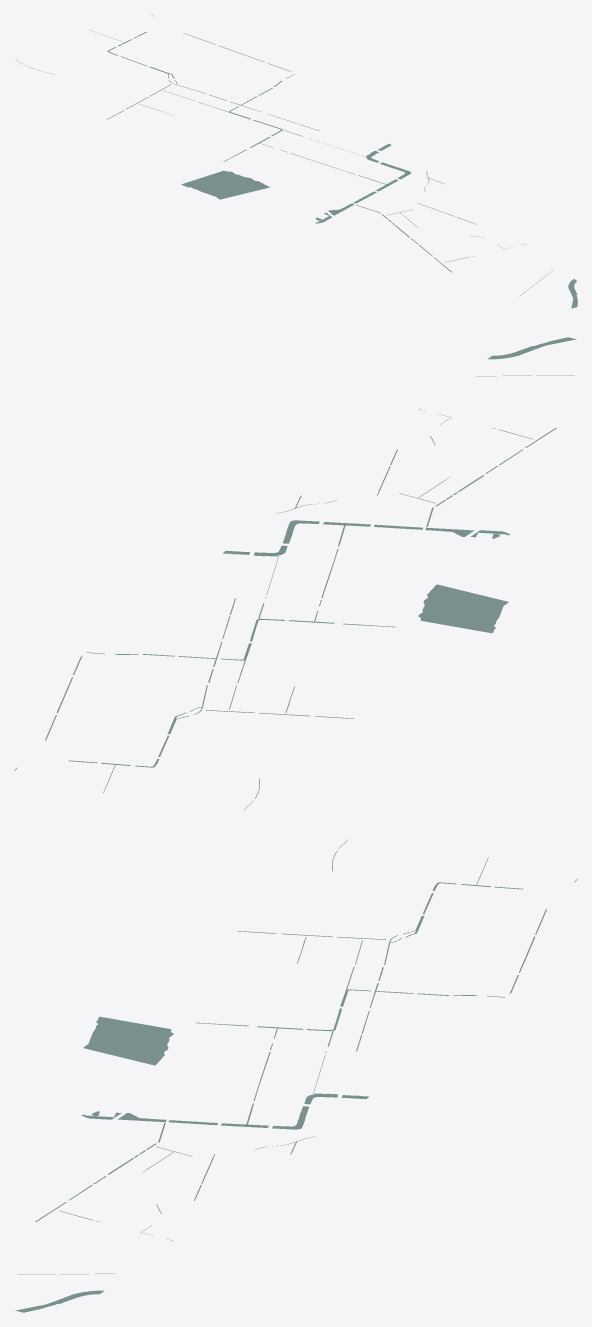
Rendered from port-water-river-packed.glb.
3 renders of one model, top to bottom at view 1: azimuth 30°, elevation 25°; view 2: azimuth 150°, elevation 25°; view 3: azimuth 330°, elevation 25°, orthographic. The views are drawn at different scales.
Bounding box in the file's own units: 572 × 0 × 2034.
